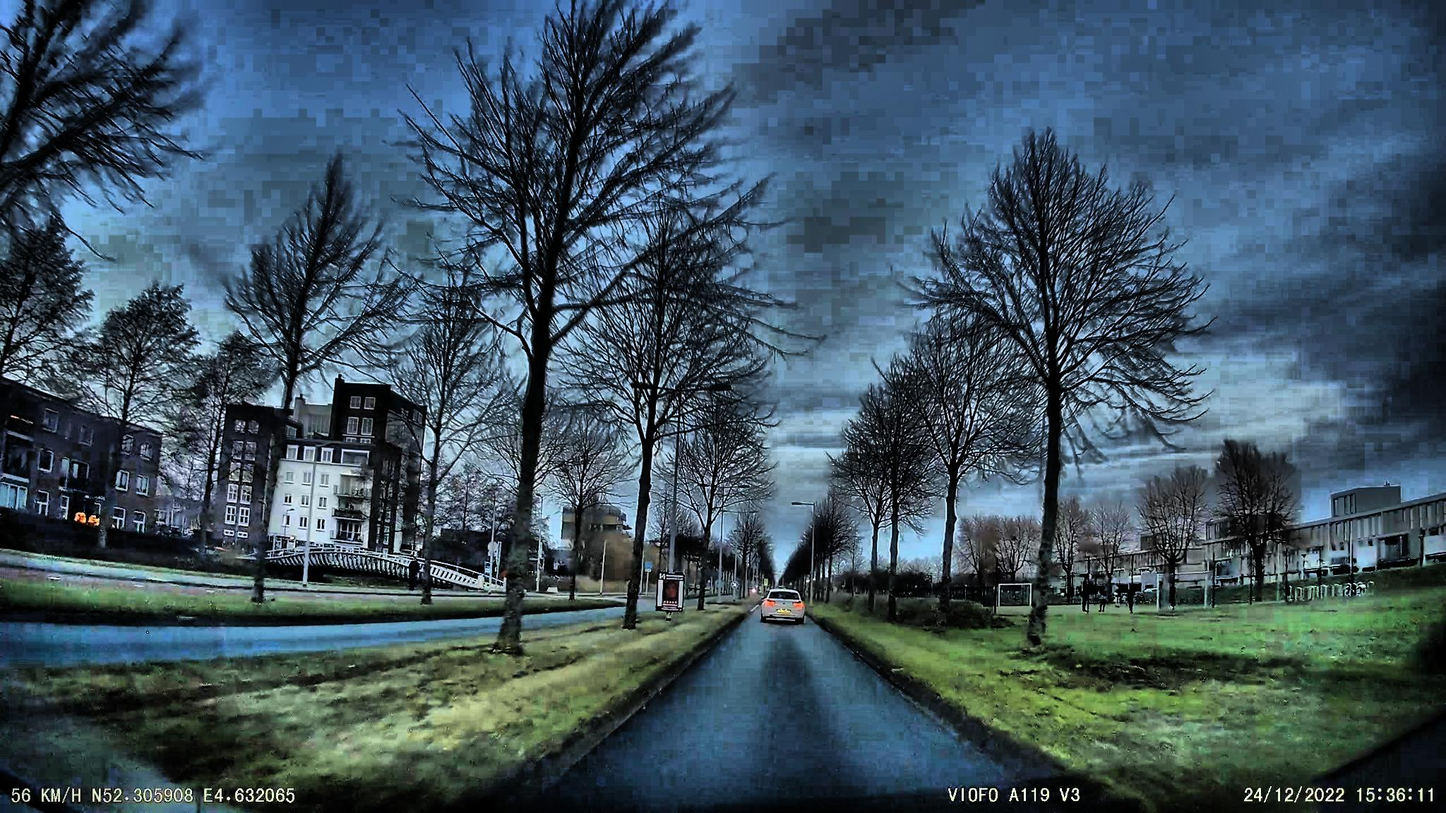Roads: (459, 598, 1137, 813)
